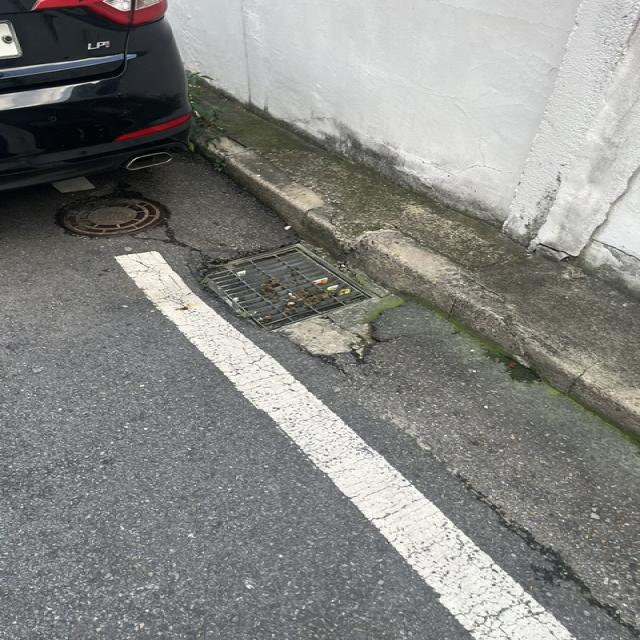drain_area: (211, 253, 365, 329)
drain_full: (202, 247, 371, 331)
